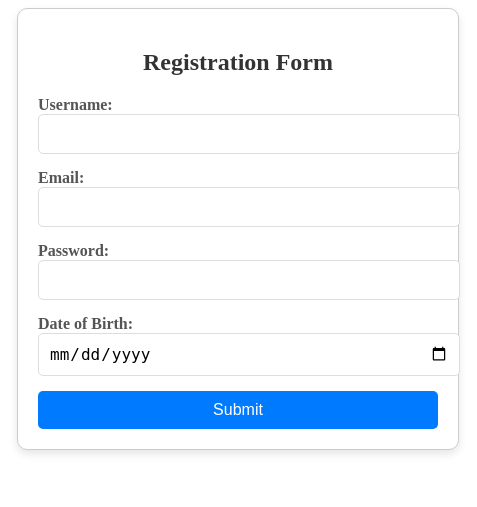
Test: Registration Form › should not be able to fill form with empty password
The width and height of the screenshot is (477, 507).
Expected: the heading "Registration Form" is shown, [143, 49, 333, 75]
Type "vardas" into the field named "username" below "Username:".
click(249, 134); type("vardas")  # box [38, 114, 460, 154]
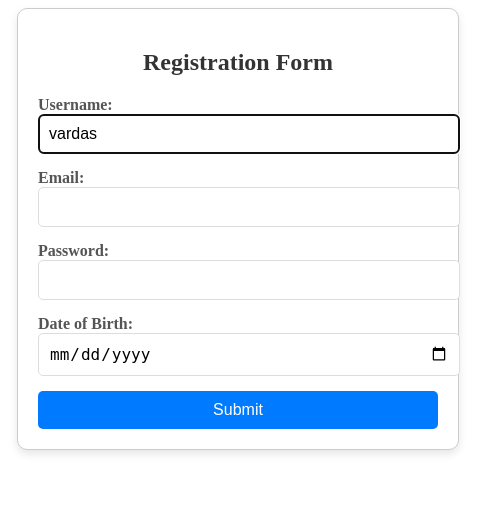
Type "testas@testa.com" into the field named "email" below "Email:".
click(249, 207); type("testas@testa.com")  # box [38, 187, 460, 227]
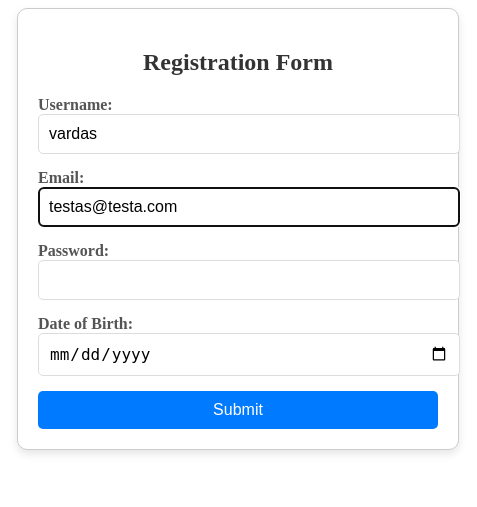
Type "1985-01-09" into the date field with test id "dob-input".
click(249, 355); type("1985-01-09")  # box [38, 333, 460, 376]
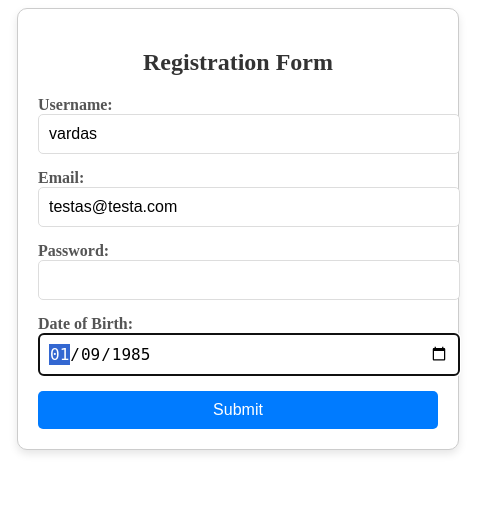
Click the button "Submit".
click(238, 410)  # box [38, 391, 438, 429]
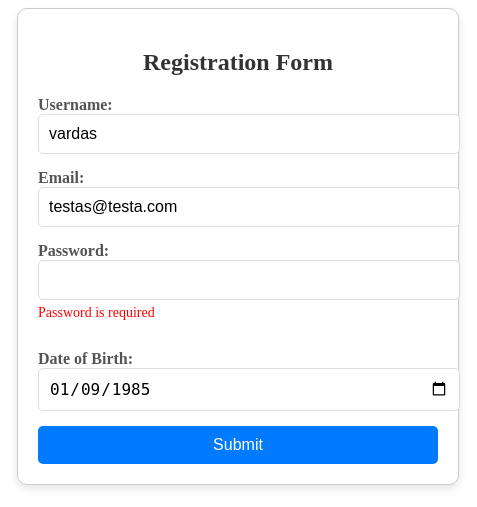
Expected: the text "Password is required" is shown, [38, 305, 155, 320]
